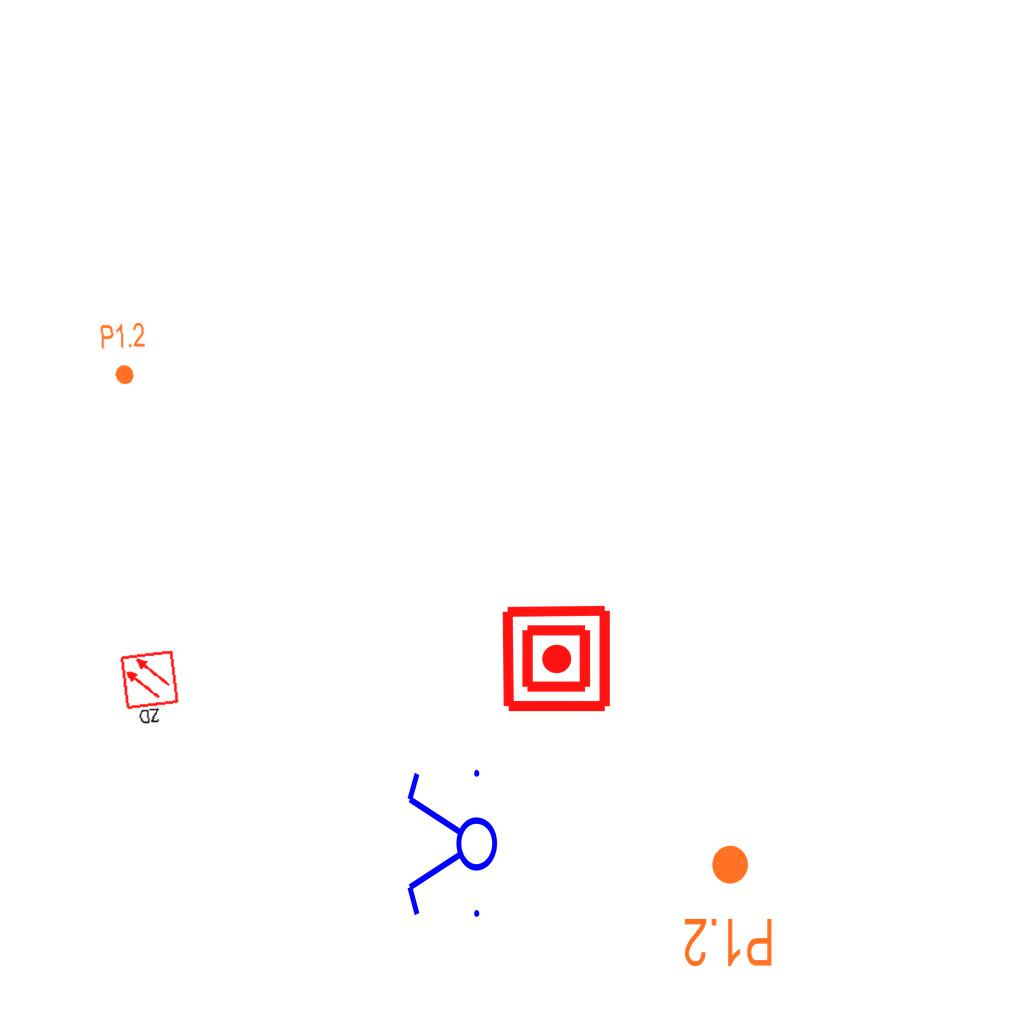Downlight_LED_Einbauleuchten_Flur: (682, 842, 775, 970), (98, 320, 150, 388)
NAM-Nichtautomatischer_Melder: (500, 602, 613, 715)
Serienschalter: (403, 761, 499, 929)
ZD_Melder_in_Zwischendecke_mit_Revisionsoeffnung_mind_40_x_40_cm: (118, 648, 185, 730)
